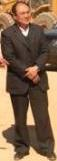boots: (13, 149, 29, 159), (0, 135, 9, 143)
